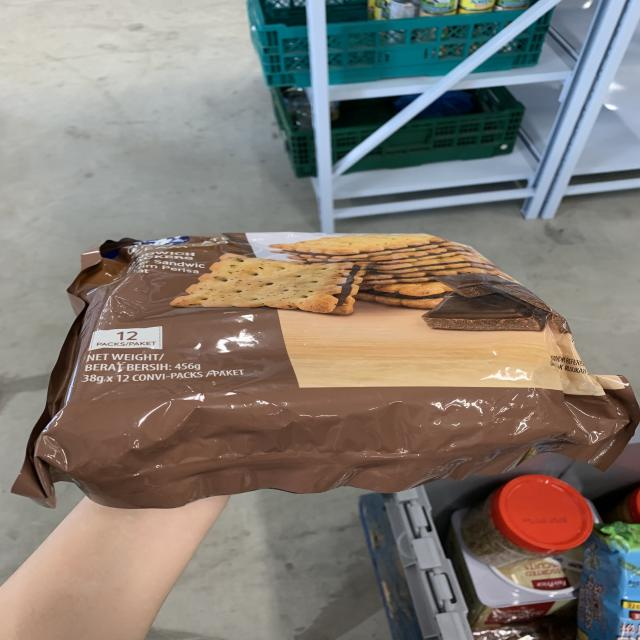object_name: (42, 236, 605, 469)
